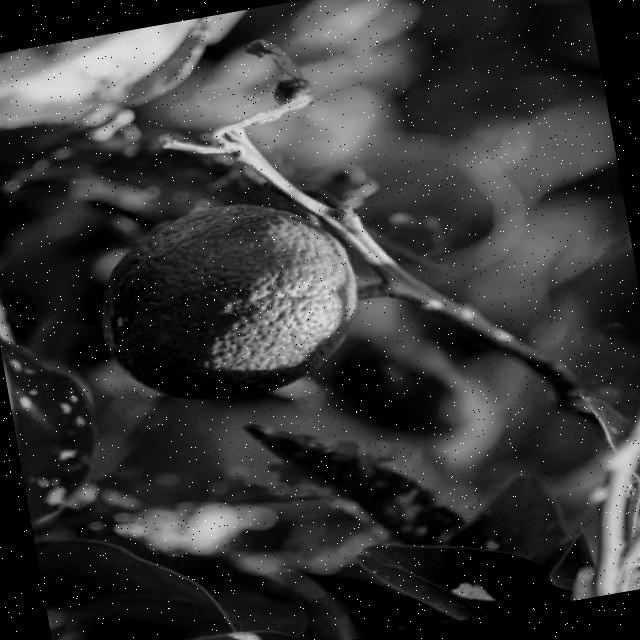Unripe: (82, 183, 374, 418)
